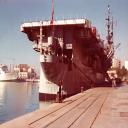Portanaves: (21, 3, 122, 104)
